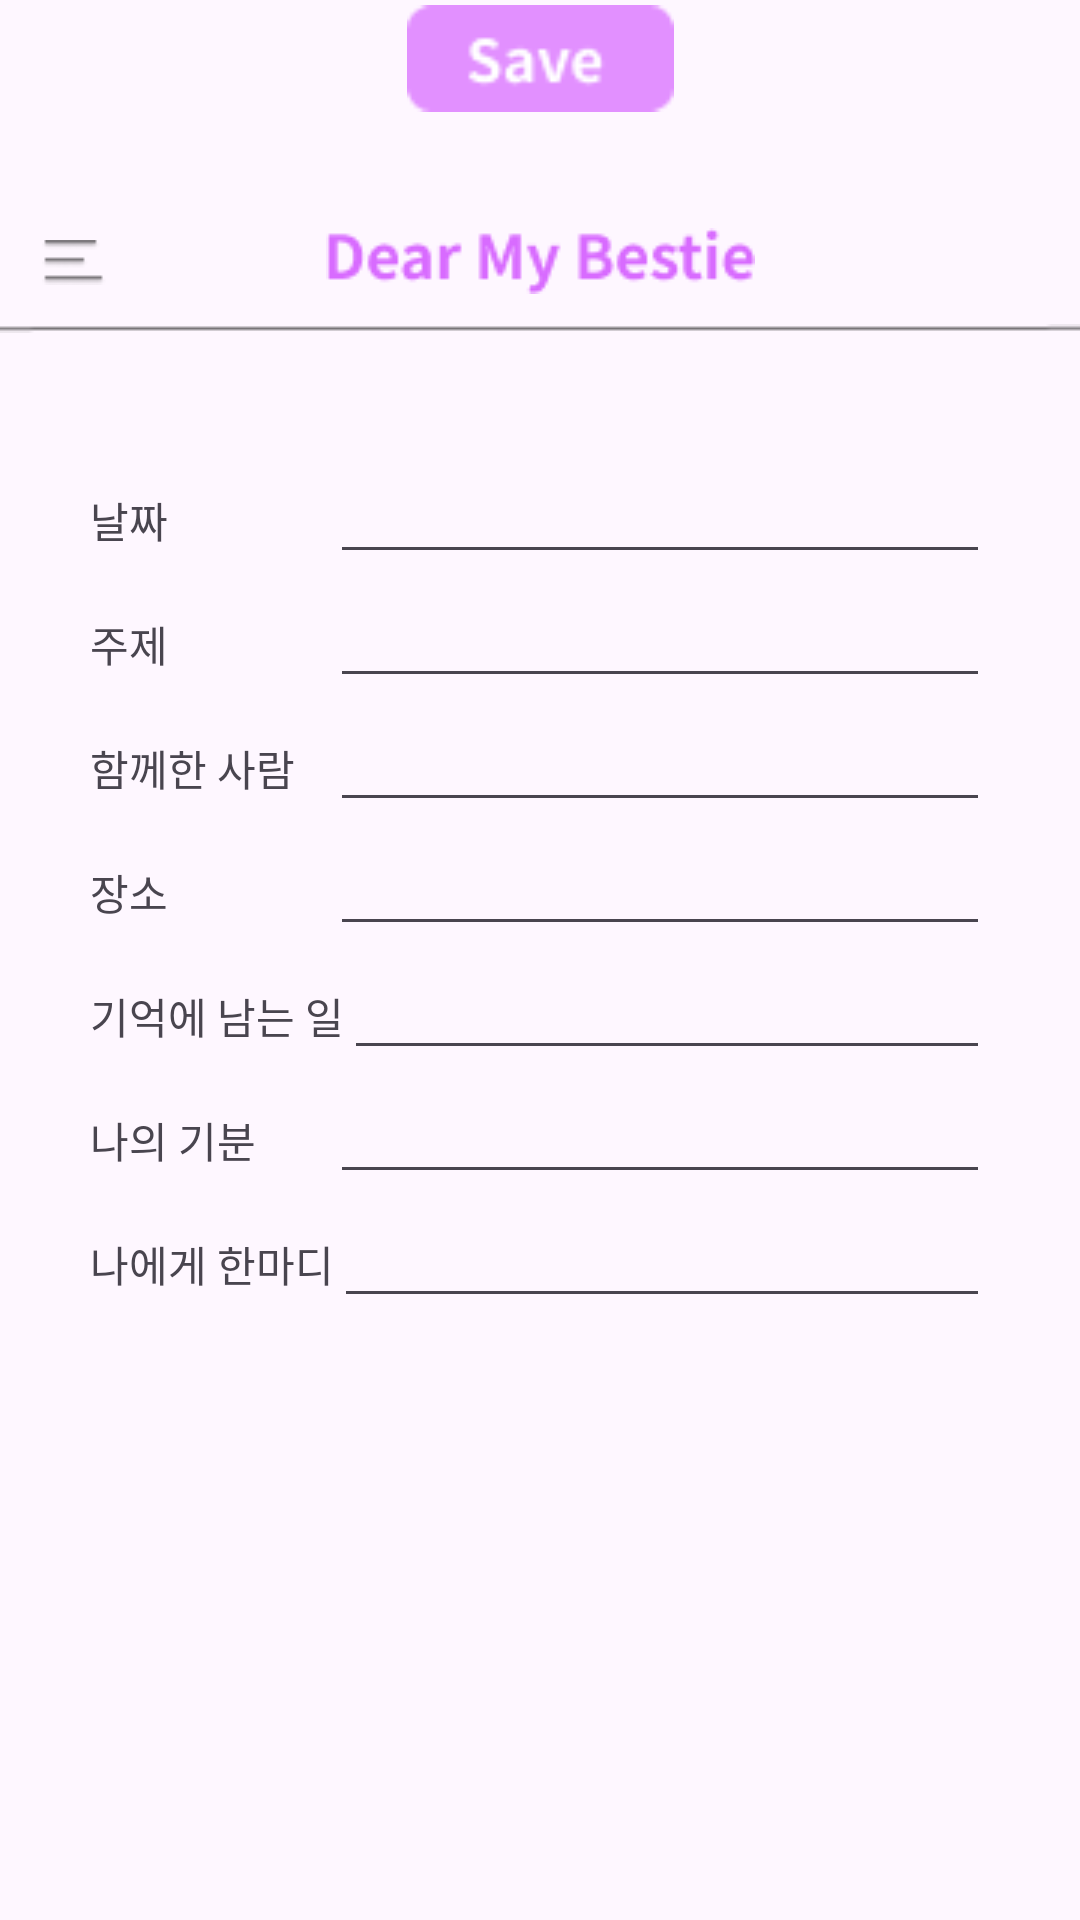

Screen size 1080px×1920px. Icon name, then its center in pixels as [x,y]:
hamburger: [73,261]
